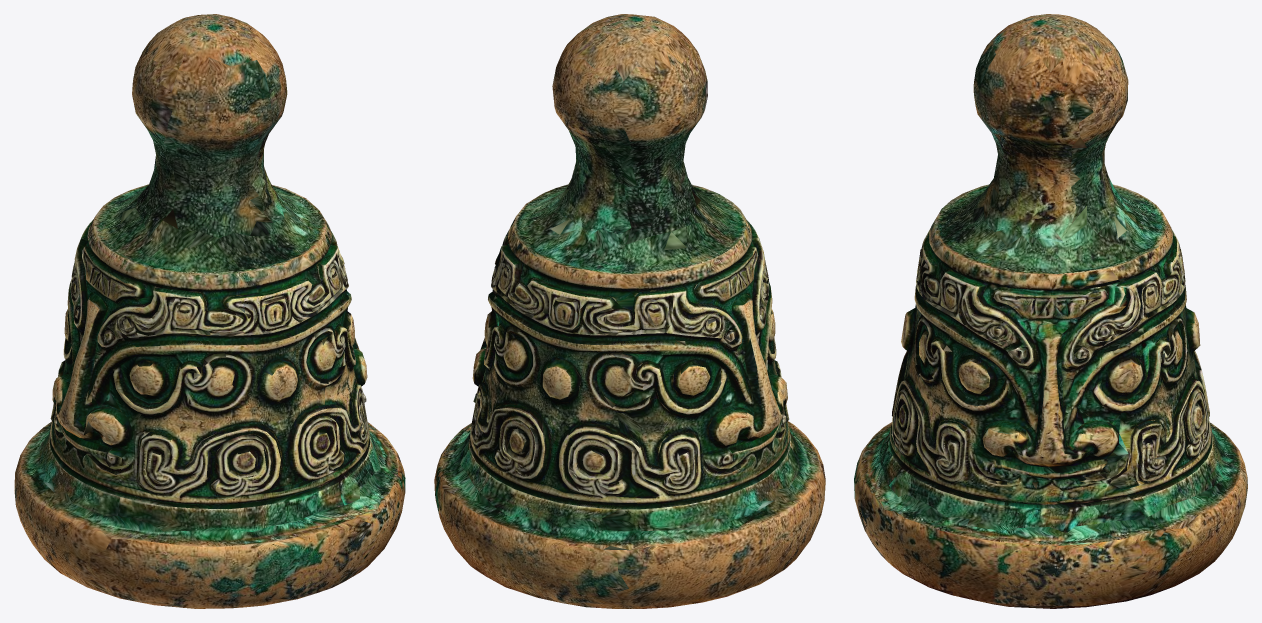
The model's file is piece_heavy.glb.
3 views of the same model, side by side, from view 1: azimuth 30°, elevation 25°; view 2: azimuth 150°, elevation 25°; view 3: azimuth 270°, elevation 25° (orthographic).
Visible parts, largest first — view 1: mesh; view 2: mesh; view 3: mesh.
Part boxes in pixels (x1,y1,x2,y2): mesh: (14, 14, 405, 608); mesh: (434, 14, 825, 608); mesh: (854, 14, 1247, 608).
Size of the model in its own units: 0.6817 by 1 by 0.6898.
1 material, 1 textured.
